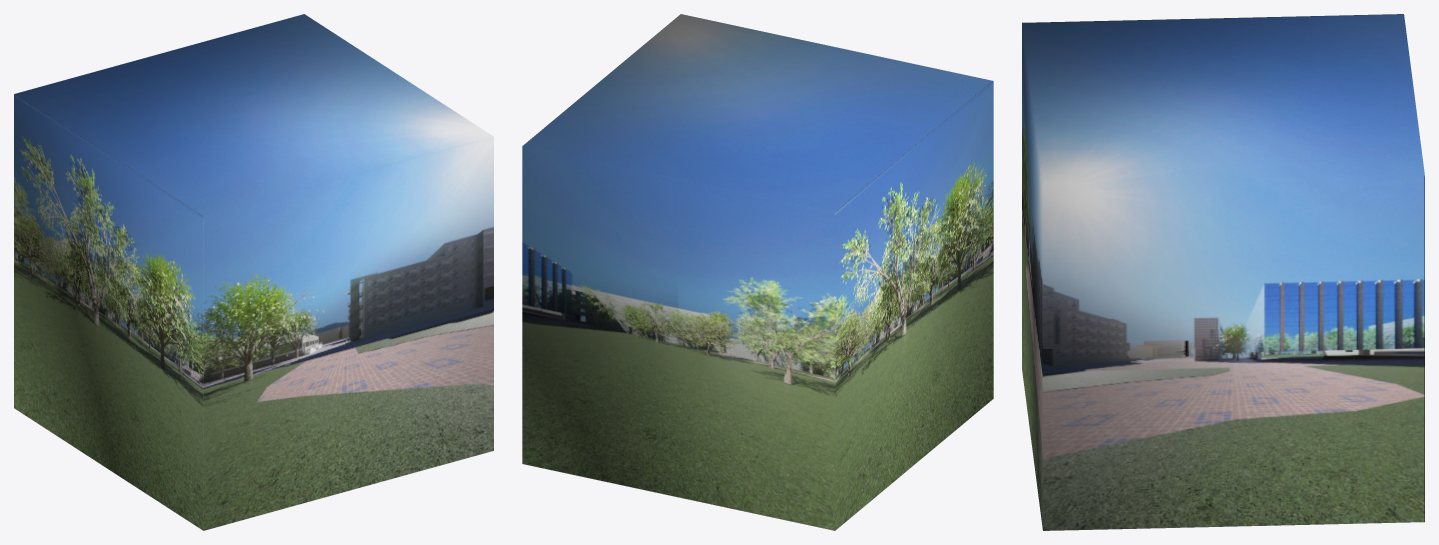
Rendered from cubo.glb.
3 views of the same model, side by side, from view 1: azimuth 30°, elevation 25°; view 2: azimuth 150°, elevation 25°; view 3: azimuth 270°, elevation 25° (orthographic). The views are drawn at different scales.
Visible parts, largest first — view 1: Cube.015; view 2: Cube.015; view 3: Cube.015.
Boxes of the visible parts, x1=… form: Cube.015: x1=14, y1=14, x2=493, y2=530; Cube.015: x1=522, y1=14, x2=993, y2=530; Cube.015: x1=1022, y1=14, x2=1424, y2=530.
Size of the model in its own units: 52.74 by 50.08 by 52.74.
Materials: 1 (1 with a texture image).
